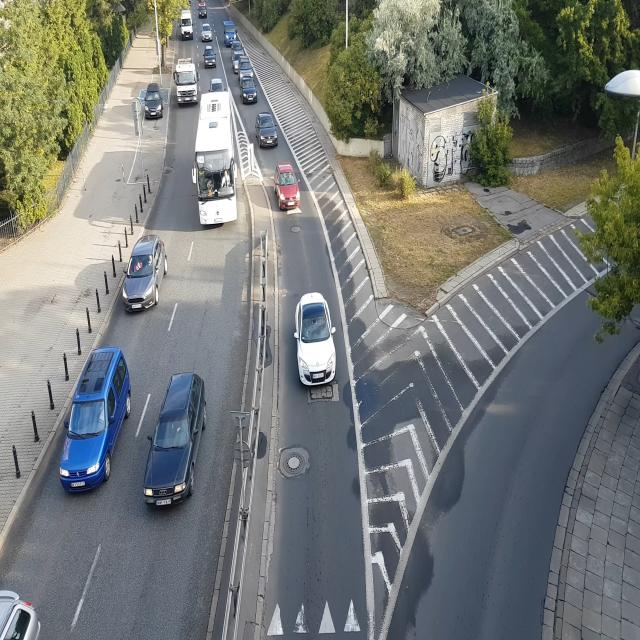bus: (193, 90, 240, 232)
car: (49, 350, 129, 501), (142, 367, 209, 519), (291, 293, 342, 387), (119, 234, 173, 311), (0, 575, 49, 640), (273, 162, 301, 213), (254, 111, 281, 154), (144, 89, 166, 118), (239, 78, 258, 102), (222, 18, 237, 44), (181, 8, 193, 40), (202, 47, 218, 69), (238, 58, 254, 78), (199, 22, 213, 40), (233, 53, 243, 72), (232, 40, 245, 54), (198, 6, 208, 18)
truck: (173, 56, 199, 105)
